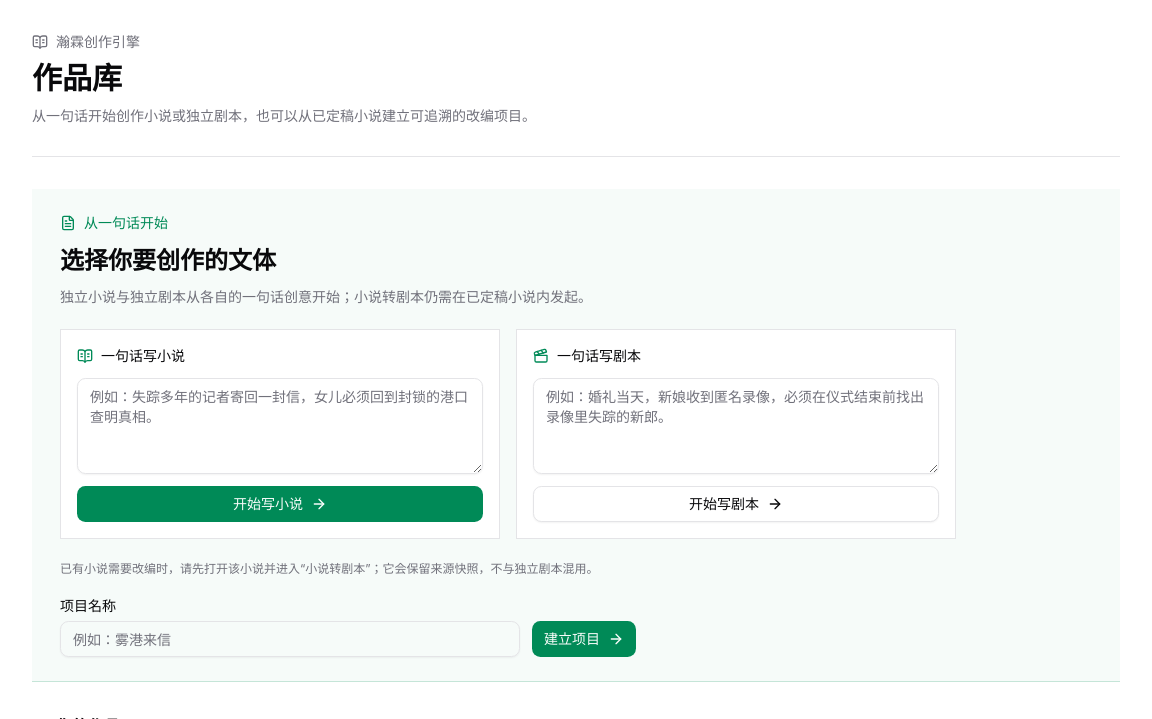
Test: StudioWorkbench › shows distinct one-sentence novel and screenplay entries before the detailed form
Expected: the heading "选择你要创作的文体" is shown, [60, 246, 276, 275]
Expected: the heading "一句话写小说" is shown, [101, 346, 185, 366]
Click the button "建立项目".
click(584, 639)  # box [532, 621, 636, 657]
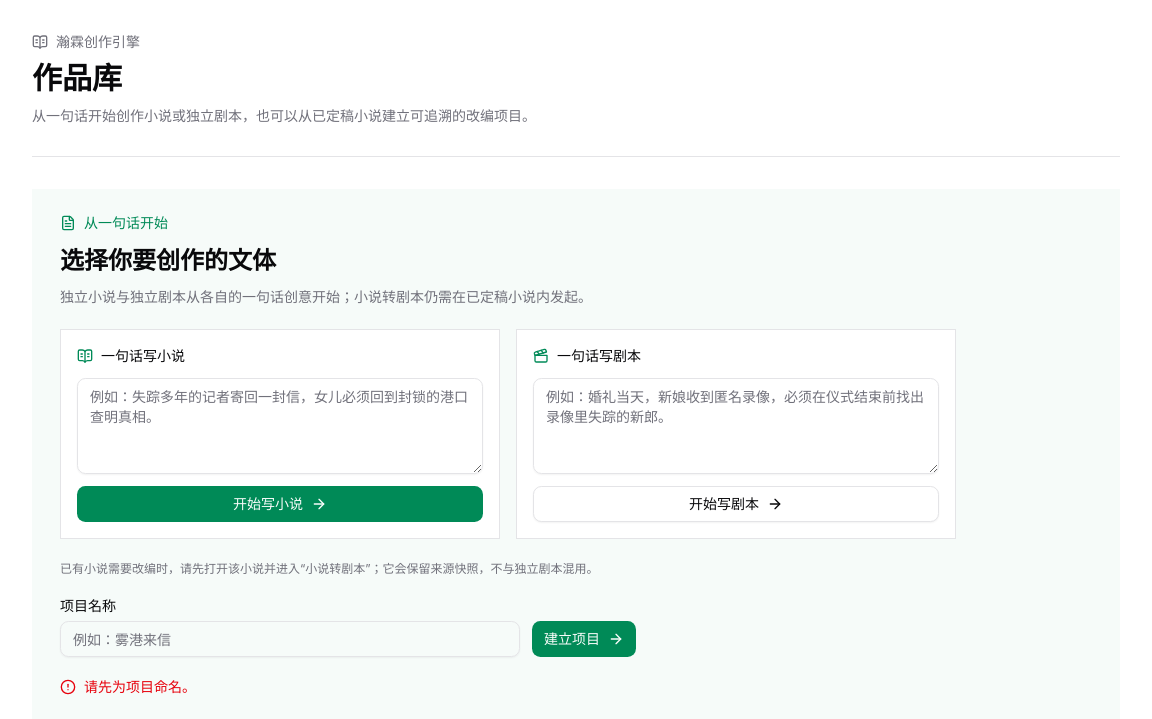
Result: the text "请先为项目命名。" is shown at [60, 678, 196, 695]
Type "雾港来信" into the field labelled "项目名称".
click(290, 639); type("雾港来信")  # box [60, 621, 520, 657]
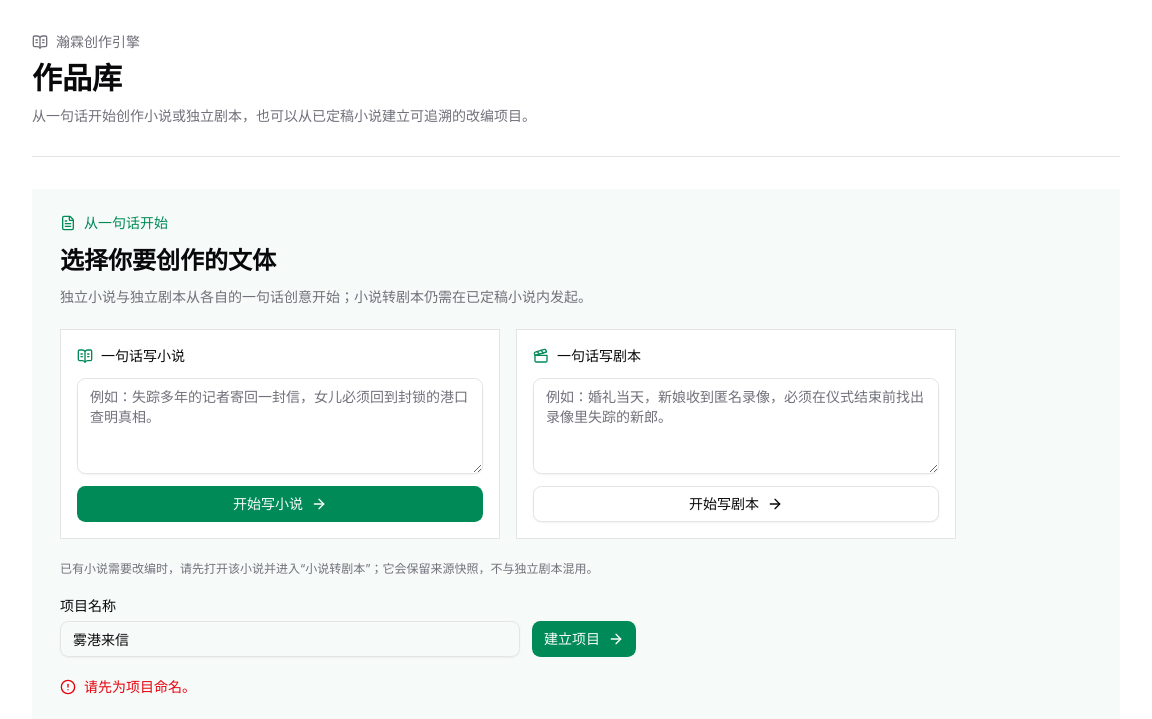
Click the button "建立项目".
click(584, 639)  # box [532, 621, 636, 657]
(page scrolled)
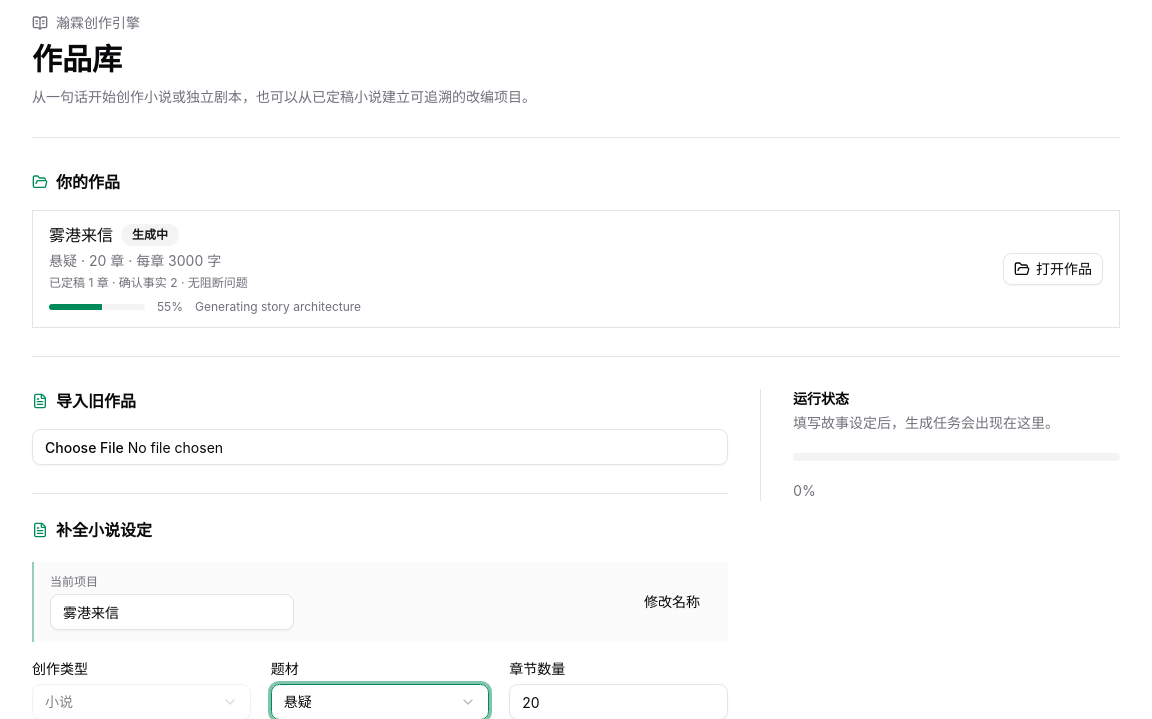
Result: the text "当前项目" is shown at [50, 574, 98, 589]
